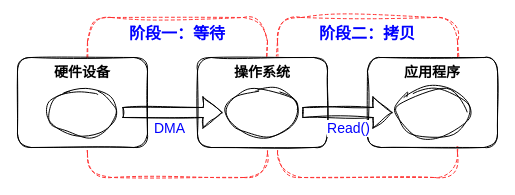
This 515x195 diagram has some shape labels left out. The centre of each missing label's shape, as x and y in pixels:
"内核缓冲区" belongs at pixel 262 112.
"用户缓冲区" belongs at pixel 432 112.
"网卡/磁盘" belongs at pixel 82 112.
